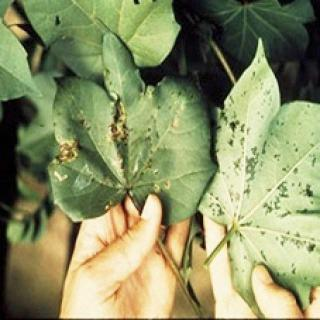blight: (208, 71, 320, 261), (55, 68, 187, 200)
